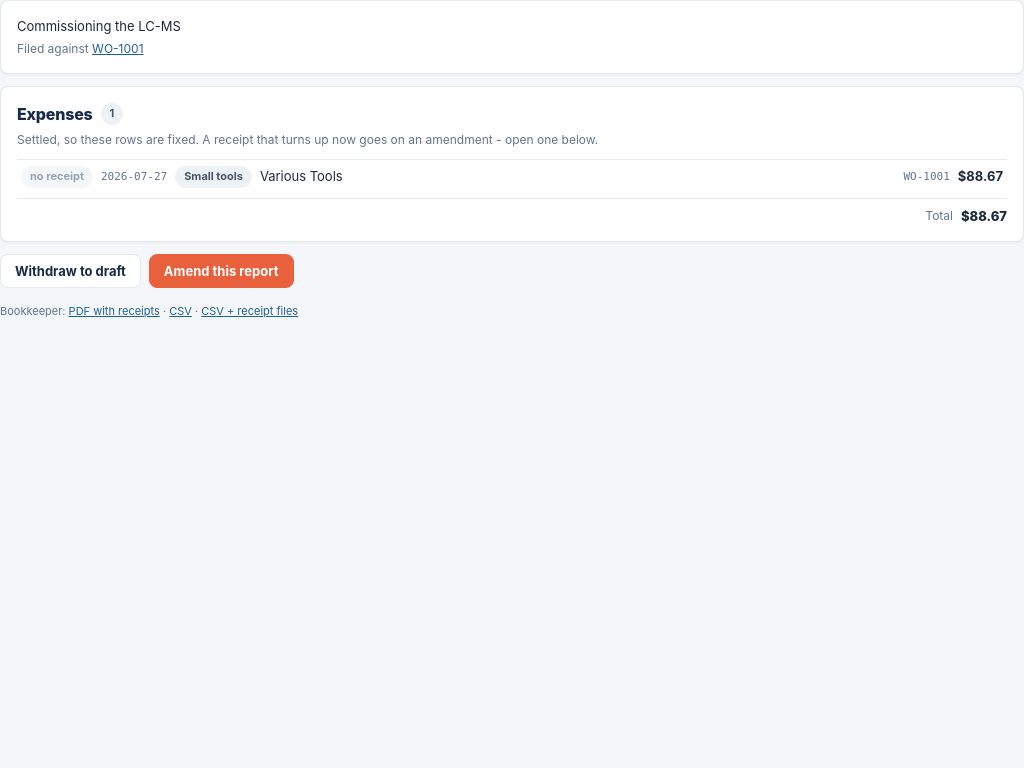
Test: a claim that has been sent › opens to be read, and says why it cannot be changed
Click the text "Various Tools". click: (301, 176)
box: [260,168,343,184]
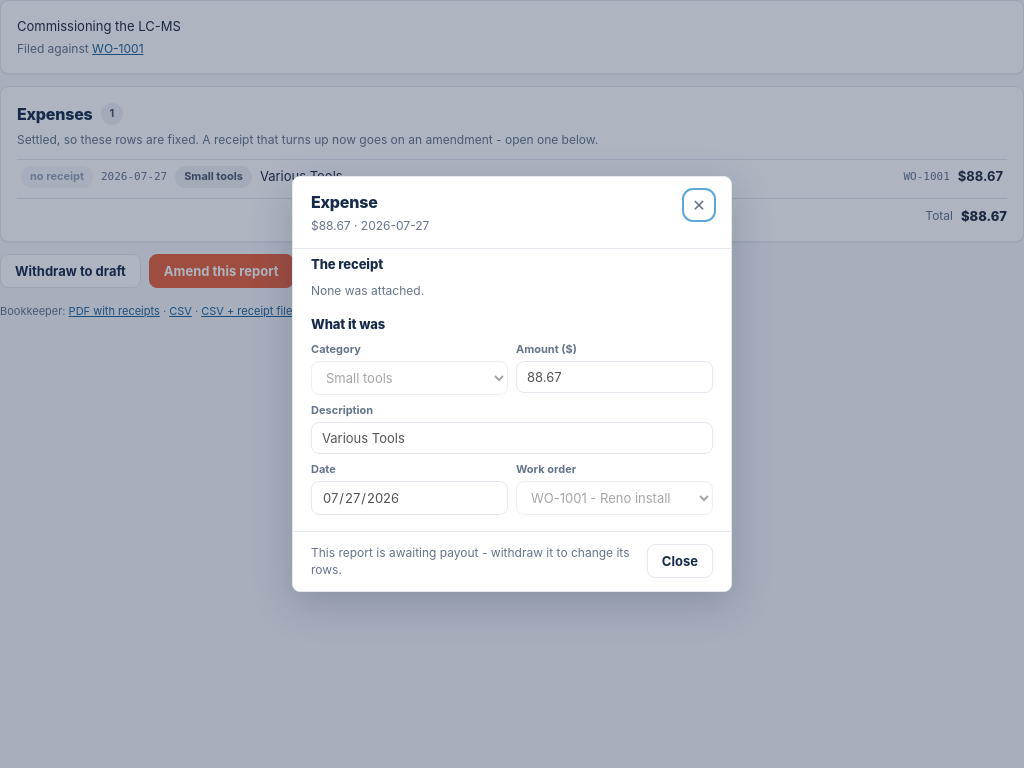
expect the field named "Amount" is disabled: met, box [516,361,713,393]
expect the field named "Description" is disabled: met, box [311,422,713,454]
expect the text "withdraw it to change its rows" is shown: met, box [311,545,630,577]
